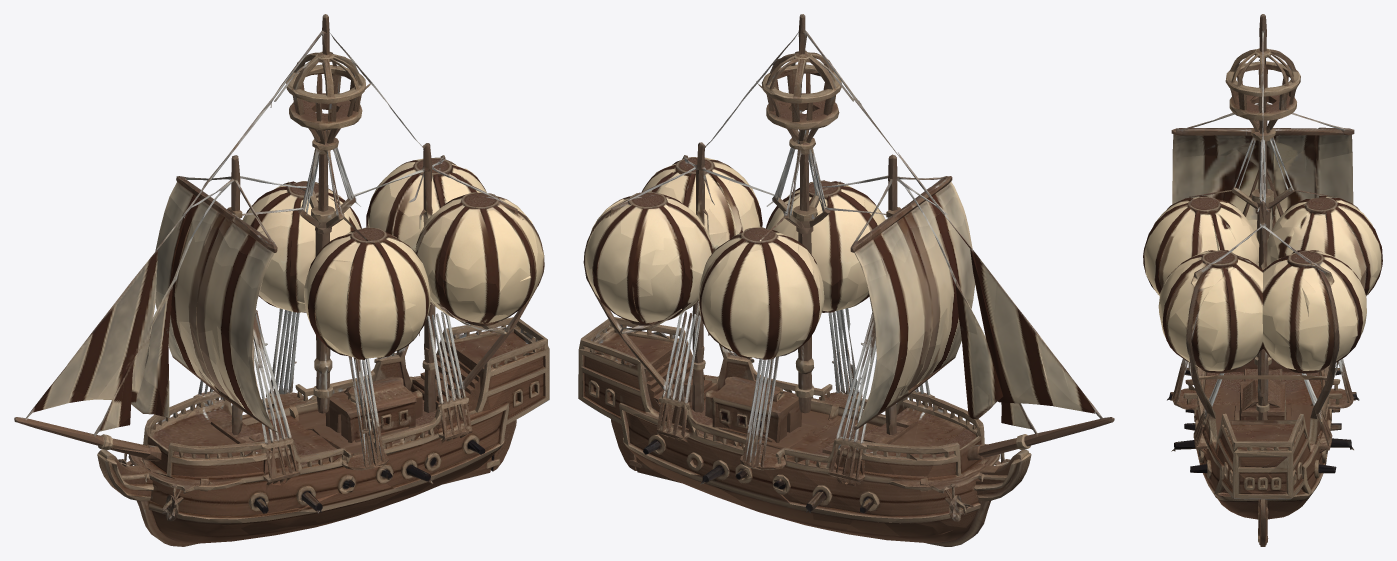
3 views of the same model, side by side, from view 1: azimuth 30°, elevation 25°; view 2: azimuth 150°, elevation 25°; view 3: azimuth 270°, elevation 25° (orthographic). The views are drawn at different scales.
Parts seen in each view (by area): view 1: Mesh_0; view 2: Mesh_0; view 3: Mesh_0.
Boxes of the visible parts, x1,y1,x2,y2 form: Mesh_0: [14, 14, 549, 546]; Mesh_0: [578, 14, 1114, 546]; Mesh_0: [1143, 14, 1382, 546].
Bounding box in the file's own units: 1.9 × 1.74 × 0.8248.
1 material, 1 textured.
